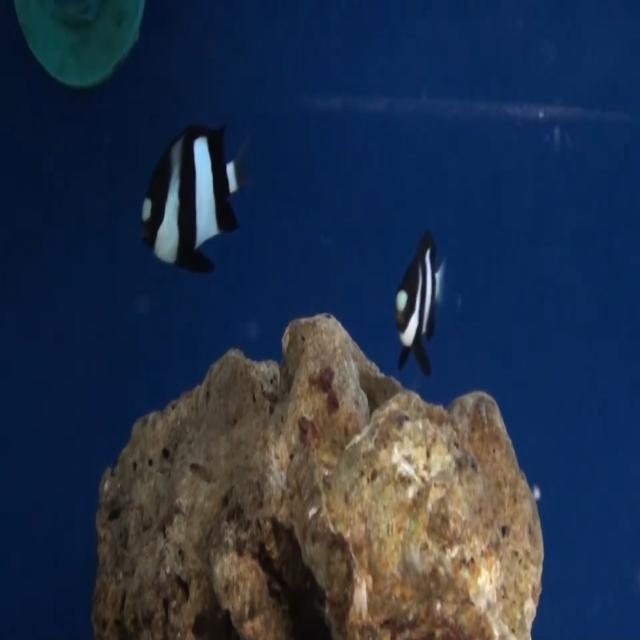ThreeStripedDamselfish: (141, 125, 243, 274), (395, 232, 447, 376)
